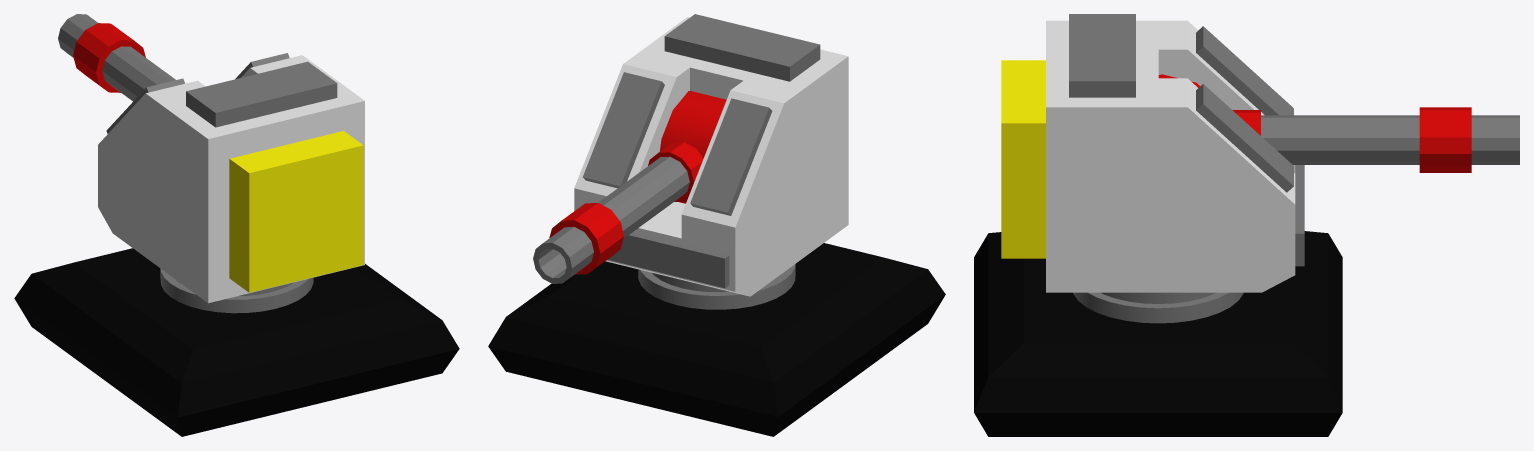
File: turret2_1.fbx
3 views of the same model, side by side, from view 1: azimuth 30°, elevation 25°; view 2: azimuth 150°, elevation 25°; view 3: azimuth 270°, elevation 25° (orthographic). The views are drawn at different scales.
Parts seen in each view (by area): view 1: Cube.036, Cube.035, Cylinder.023, Cylinder.021; view 2: Cube.036, Cube.035, Cylinder.023, Cylinder.021, Cylinder.022; view 3: Cube.036, Cube.035, Cylinder.023, Cylinder.021.
Part boxes in pixels (<box>): Cube.036: <box>98,53,364,303</box>; Cube.035: <box>14,248,459,436</box>; Cylinder.023: <box>58,14,175,101</box>; Cylinder.021: <box>160,268,313,313</box>; Cube.036: <box>574,14,848,296</box>; Cube.035: <box>488,243,945,436</box>; Cylinder.023: <box>533,142,703,283</box>; Cylinder.021: <box>638,264,795,309</box>; Cylinder.022: <box>660,91,726,203</box>; Cube.036: <box>1001,14,1304,292</box>; Cube.035: <box>974,231,1342,436</box>; Cylinder.023: <box>1232,107,1519,172</box>; Cylinder.021: <box>1073,292,1243,323</box>.
Bounding box in the file's own units: 390 × 371 × 578.
